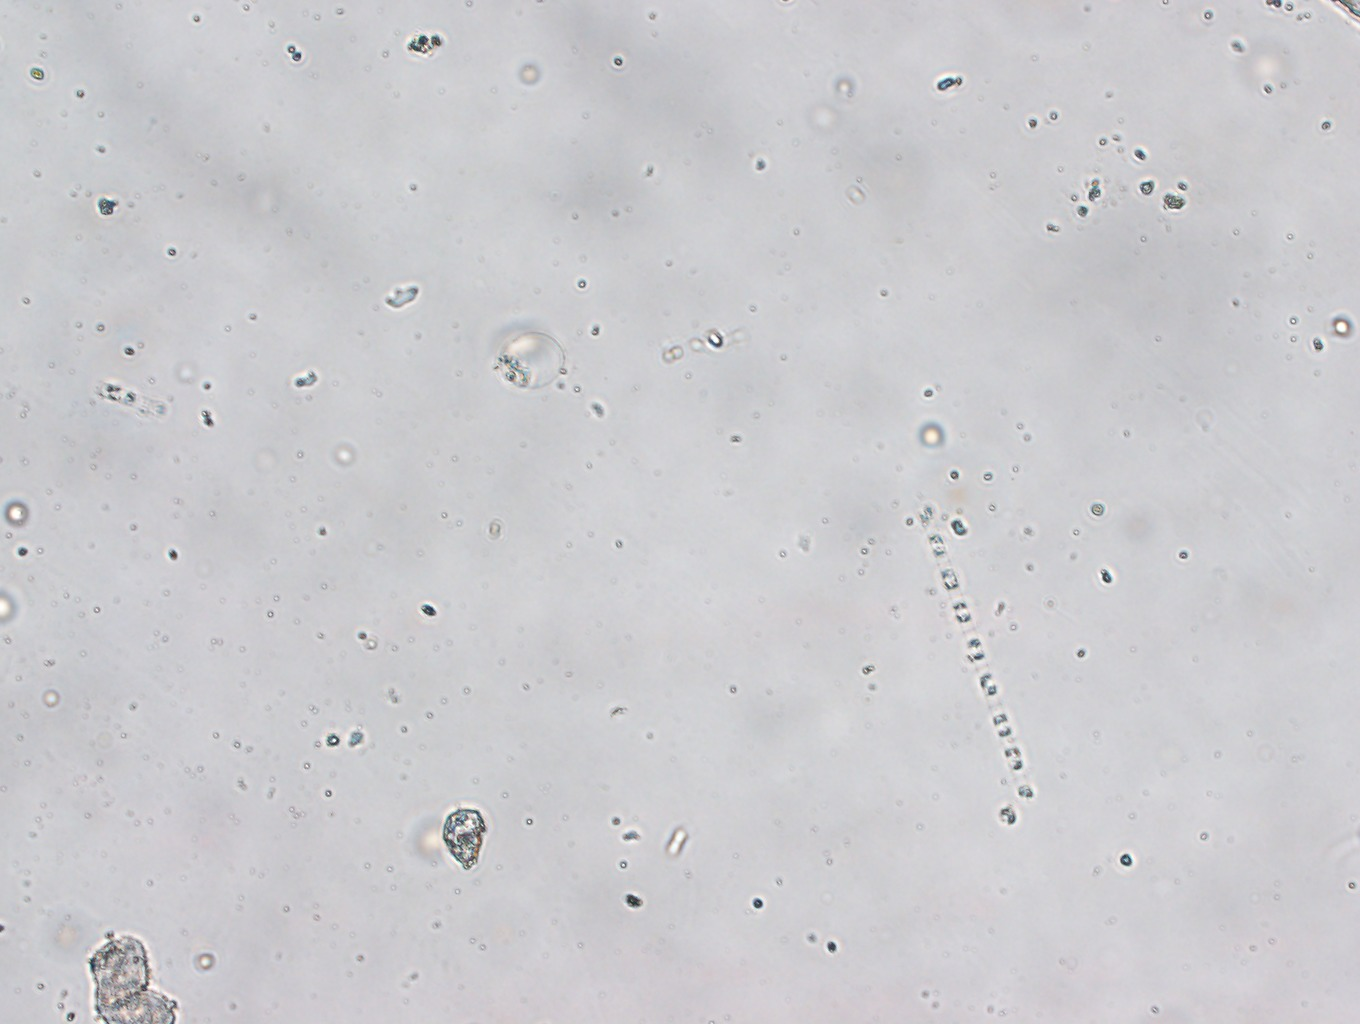skeletonema: (918, 500, 1033, 808)
